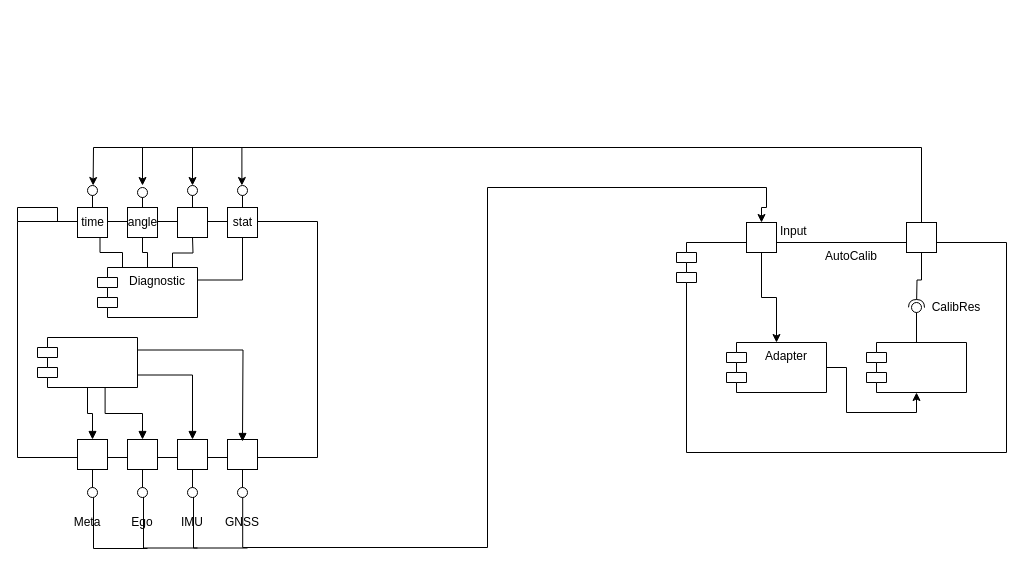
The diagram is 1024 pixels wide and 573 high, and some of its shapes have lost their labels. Each missing label, with the centre of its shape:
Dispatcher: point 87,362
Estimation Engine: point 916,367
Output: point 921,237
retry: point 192,222
